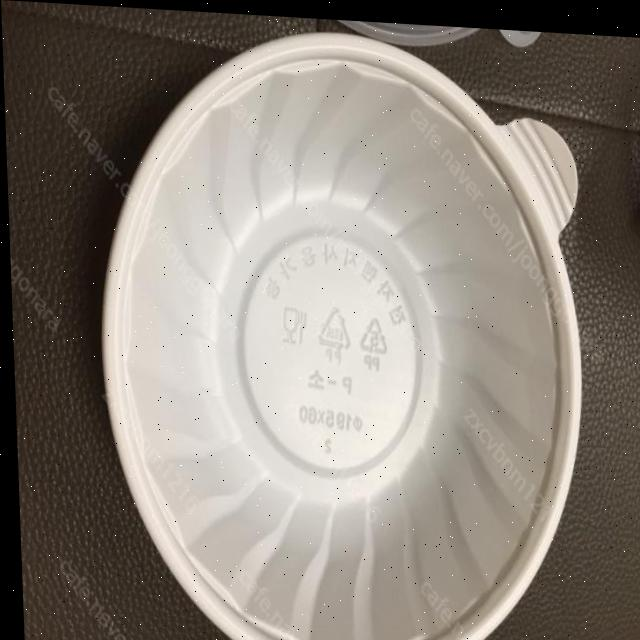disposable: (79, 13, 623, 640)
